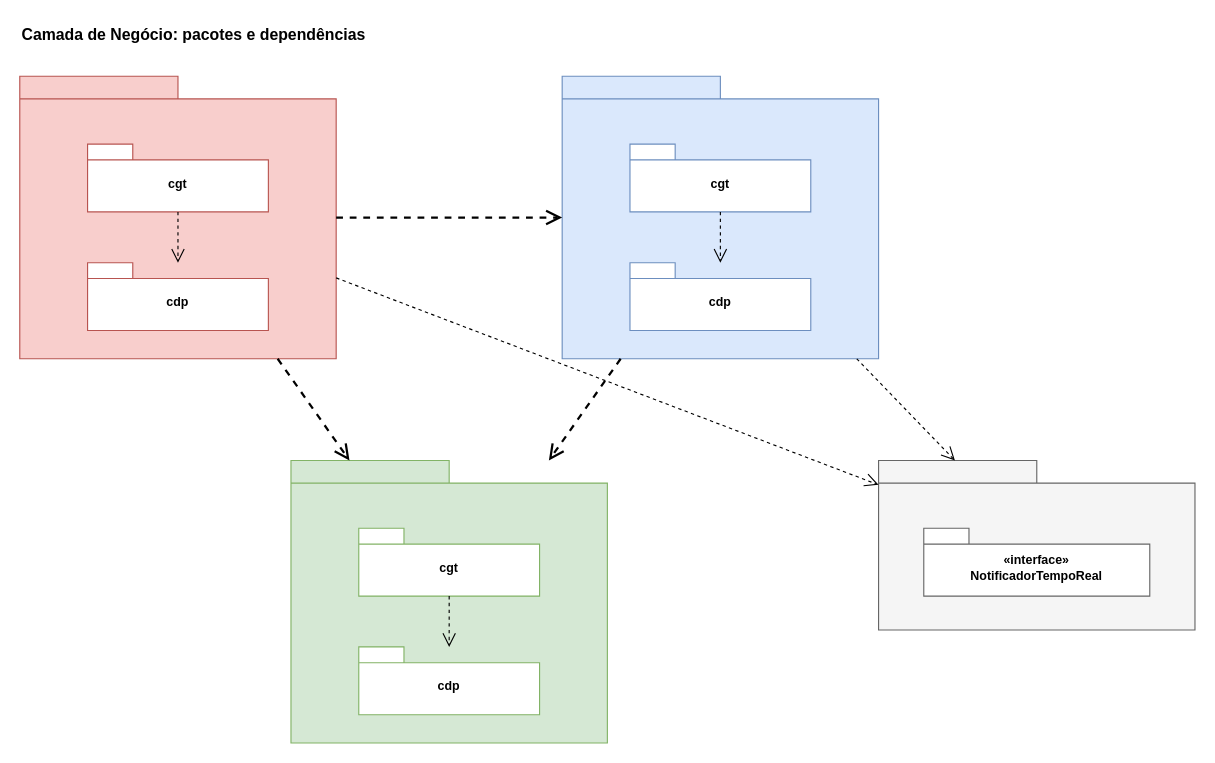
Some shapes in this 1215 by 763 pixel diagram are drawn without their labels. The shapes that lost their labels are listed below. From the top down, each one's box as (x1, y1, x2, y2) in pixels, then its label:
(19, 75, 336, 359): Suporte
(561, 75, 879, 359): Serviços
(877, 459, 1195, 630): Comum
(290, 459, 607, 743): Gestão de Perfis
